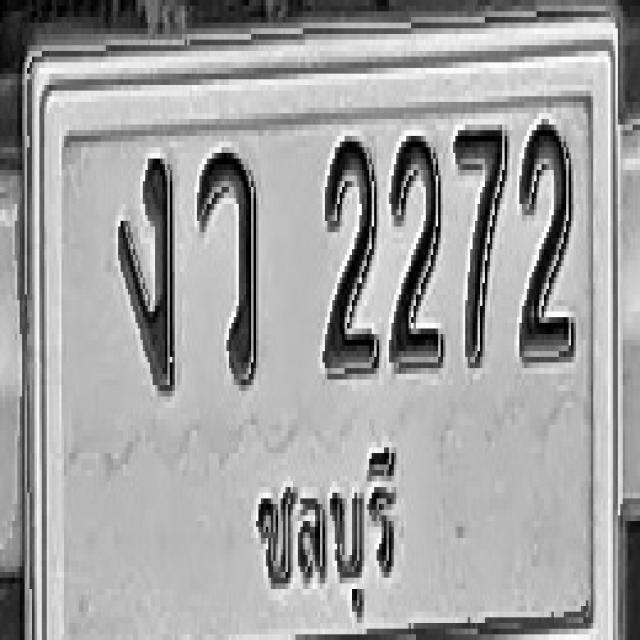16NgorNgu: (117, 153, 176, 391)
2: (518, 119, 575, 362), (323, 136, 379, 374), (389, 130, 443, 368)
46WorWaen: (196, 147, 257, 385)
7: (453, 125, 507, 368)
Chonburi: (245, 443, 410, 626)
